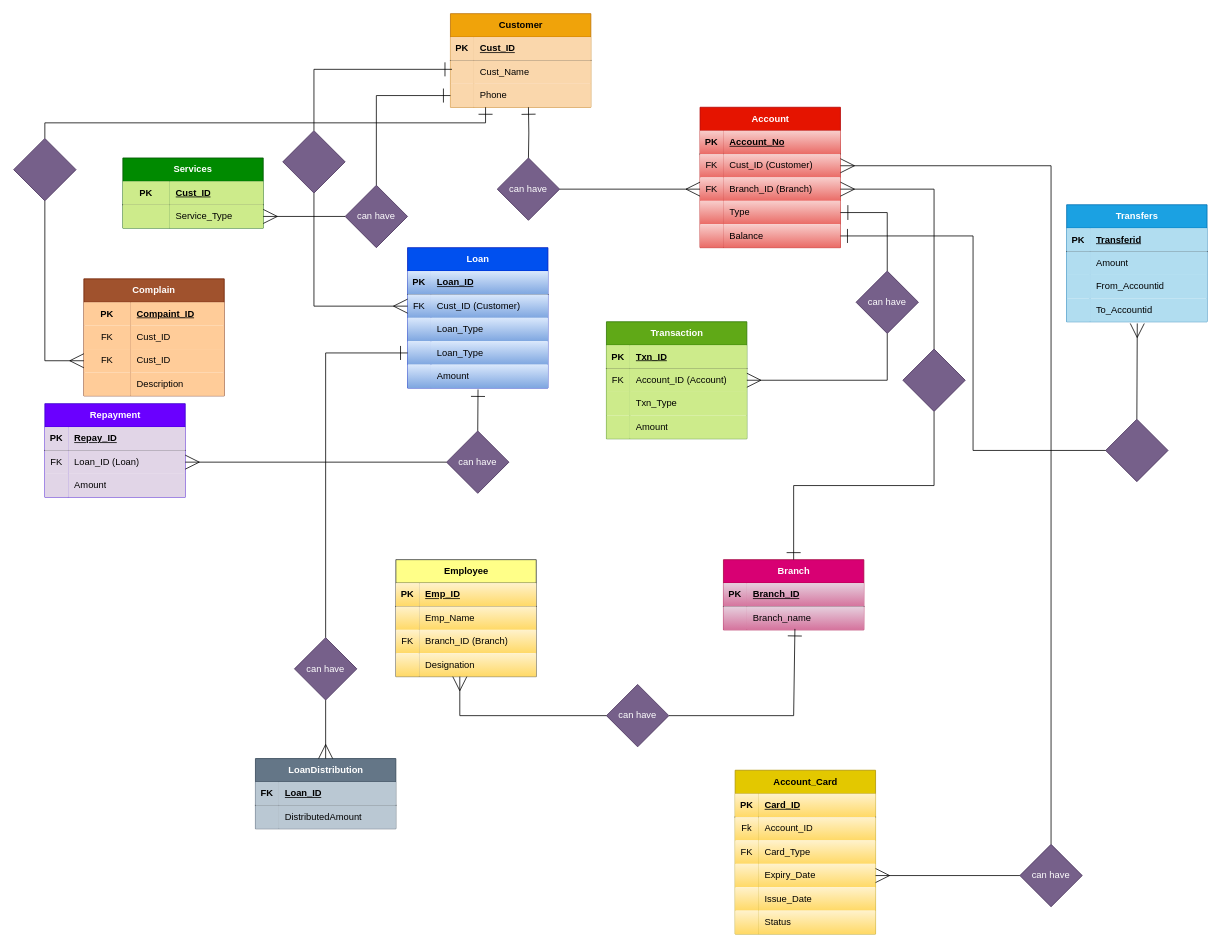
The diagram is 1221 pixels wide and 948 high, and some of its shapes have lost their labels. Each missing label, with the centre of its shape:
"can" goes at (x=1136, y=450).
"can give" goes at (x=44, y=169).
"can handle" goes at (x=933, y=379).
"can take" goes at (x=313, y=161).
